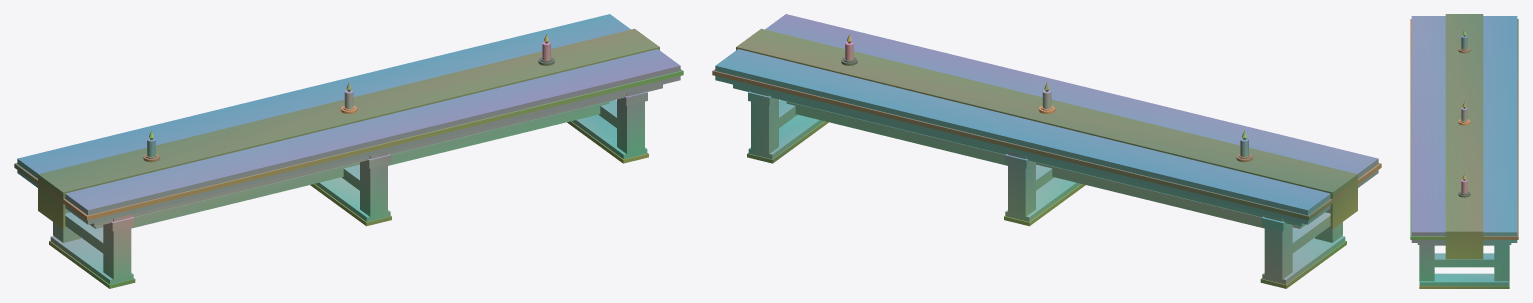
The model's file is banquet_table_6m.glb.
3 renders of one model, left to right at view 1: azimuth 30°, elevation 25°; view 2: azimuth 150°, elevation 25°; view 3: azimuth 270°, elevation 25°, orthographic. The views are drawn at different scales.
Parts seen in each view (by area): view 1: table_body, table_runner, table_candles; view 2: table_body, table_runner, table_candles; view 3: table_body, table_runner, table_candles.
Boxes of the visible parts, left/top/right/bottom form: table_body: left=17, top=14, right=680, bottom=284; table_runner: left=14, top=28, right=683, bottom=288; table_candles: left=147, top=41, right=550, bottom=157; table_body: left=715, top=14, right=1378, bottom=284; table_runner: left=712, top=28, right=1381, bottom=288; table_candles: left=845, top=41, right=1248, bottom=157; table_body: left=1411, top=16, right=1517, bottom=285; table_runner: left=1410, top=14, right=1518, bottom=288; table_candles: left=1461, top=35, right=1467, bottom=193.
Size of the model in its own units: 6.04 by 1.15 by 1.27.
